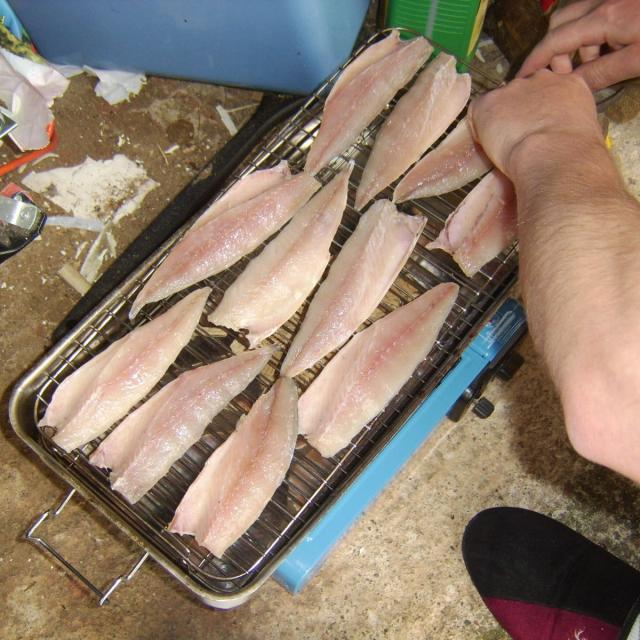Mackerel: (129, 161, 320, 319), (89, 345, 276, 503), (39, 288, 211, 451), (298, 284, 459, 457), (209, 161, 354, 347), (280, 200, 426, 377), (169, 378, 298, 556), (305, 30, 432, 175), (355, 52, 471, 210), (428, 169, 518, 276), (394, 119, 492, 202)
